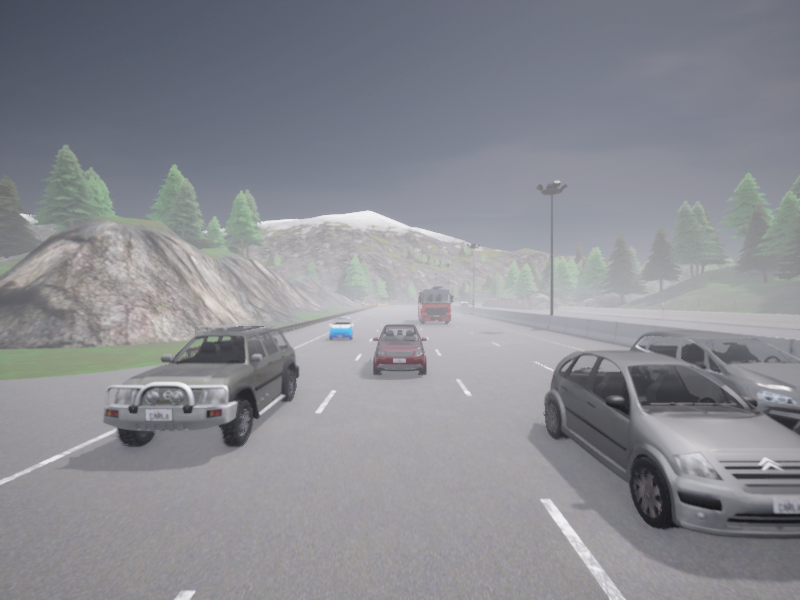vehicle: (544, 350, 799, 538), (103, 325, 298, 445), (628, 330, 799, 434), (373, 324, 426, 375), (418, 286, 452, 323), (329, 317, 353, 340), (459, 302, 466, 306), (463, 301, 468, 304), (470, 302, 475, 304)
